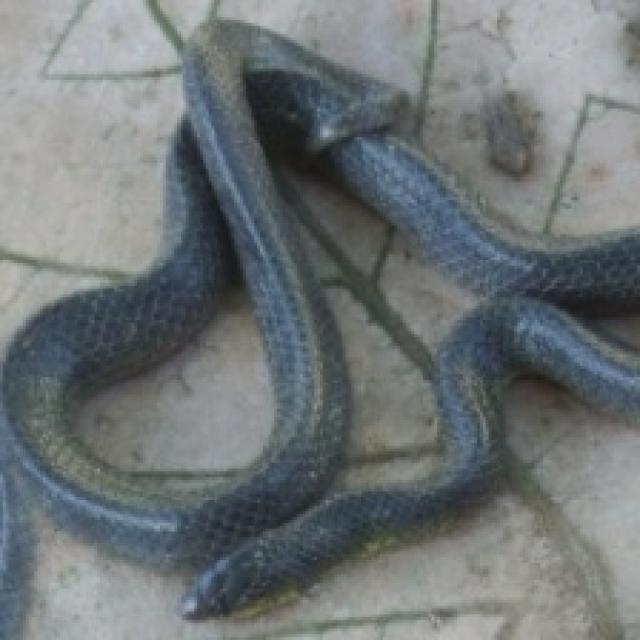gunthers philippine shrub snake: (23, 380, 637, 637), (217, 0, 637, 240), (0, 0, 180, 351), (326, 286, 431, 483), (169, 294, 266, 426), (483, 86, 540, 177)
